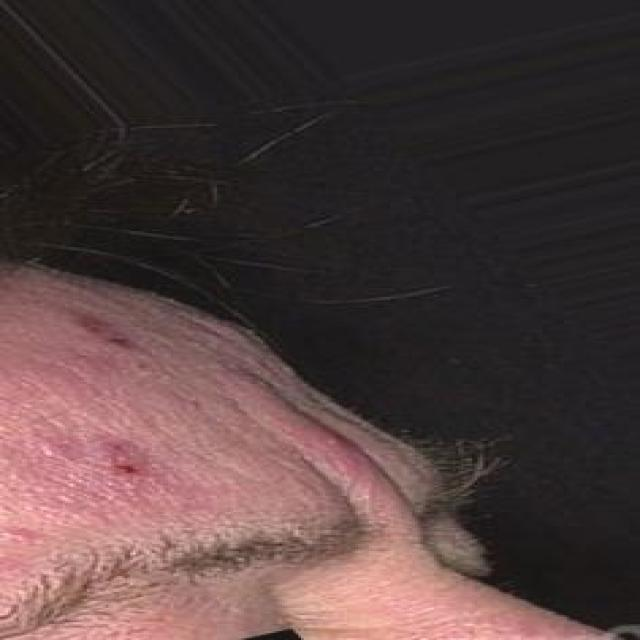Rosacea: (0, 301, 234, 552), (234, 362, 387, 515)
